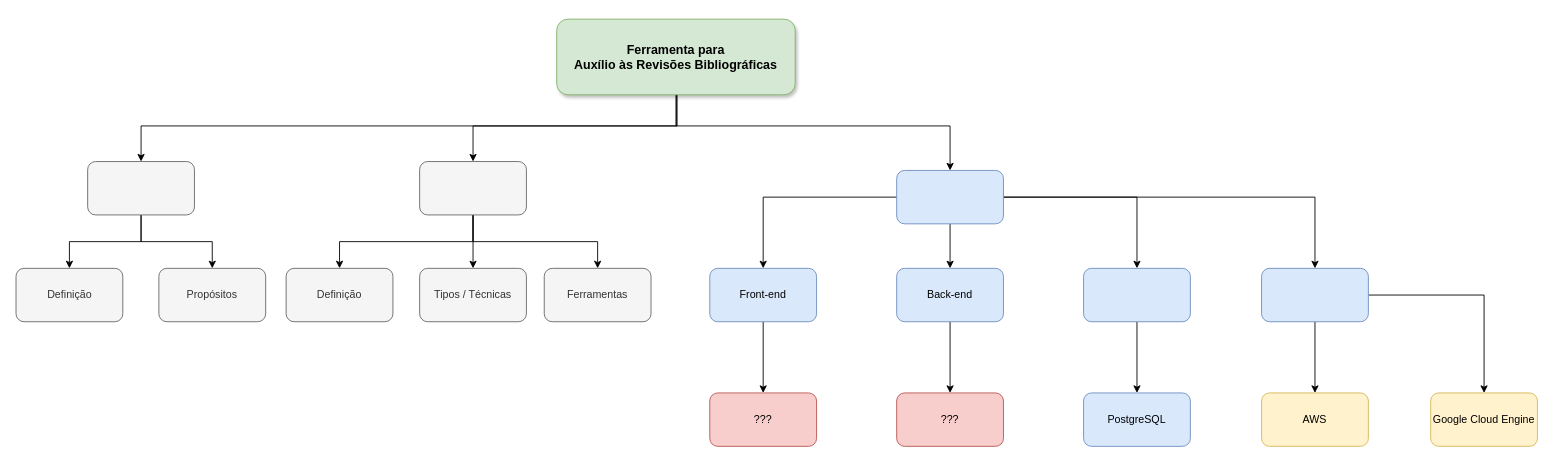
This 1553x462 diagram has some shape labels left out. The centre of each missing label's shape, as x and y in pixels:
Conceito de Revisão Bibliográfica: [140,188]
Conceitos de Web Scraping: [472,188]
Desenvolvimento: [949,197]
Infraestrutura: [1314,294]
Persistência: [1136,294]
